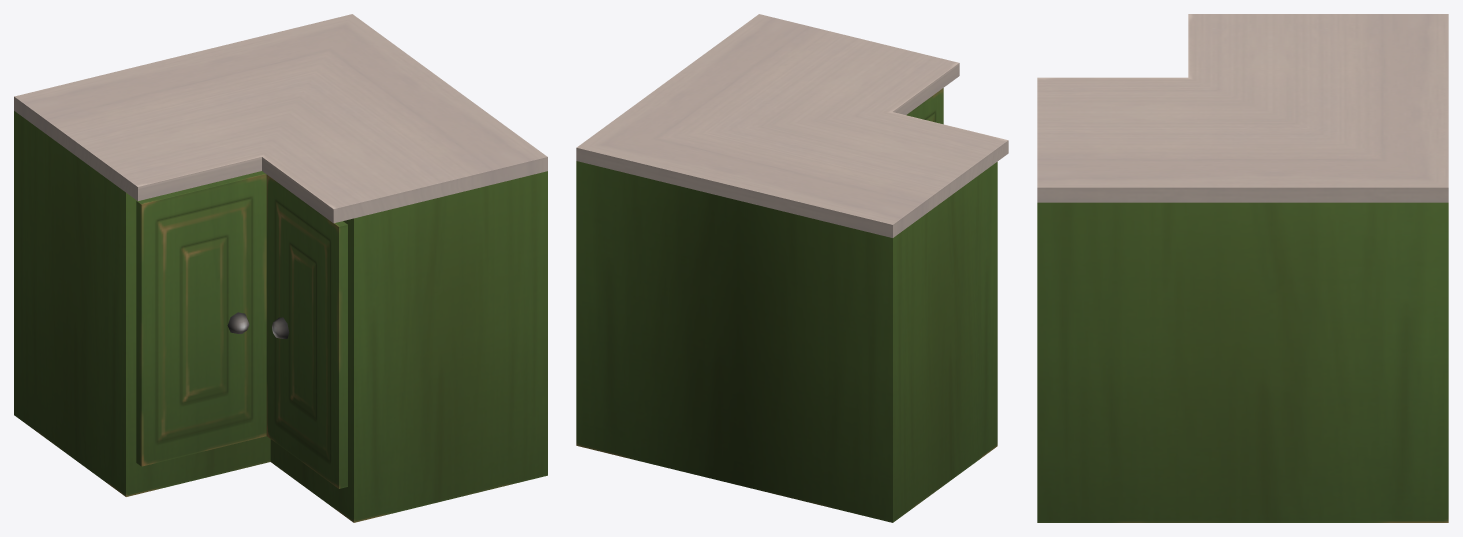
File: FUR0110018.fbx
3 renders of one model, left to right at view 1: azimuth 30°, elevation 25°; view 2: azimuth 150°, elevation 25°; view 3: azimuth 270°, elevation 25°, orthographic. The views are drawn at different scales.
Visible parts, largest first — view 1: smFUR0110018; view 2: smFUR0110018; view 3: smFUR0110018.
Boxes of the visible parts, bbox=[...] form: smFUR0110018: bbox=[14, 14, 547, 522]; smFUR0110018: bbox=[576, 14, 1008, 522]; smFUR0110018: bbox=[1037, 14, 1448, 522].
Size of the model in its own units: 1 by 0.9 by 1.
1 material, 1 textured.
